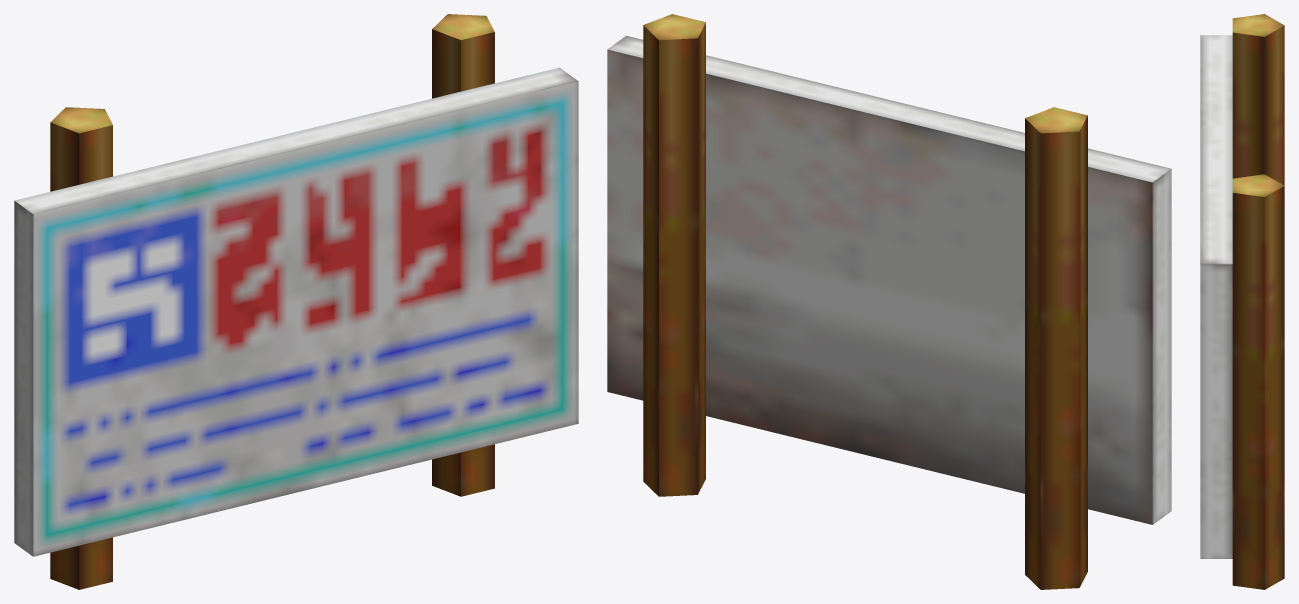
Rendered from Poly_SF_Outside_B_Signboard_01.obj.
3 renders of one model, left to right at view 1: azimuth 30°, elevation 25°; view 2: azimuth 150°, elevation 25°; view 3: azimuth 270°, elevation 25°, orthographic. The views are drawn at different scales.
Parts seen in each view (by area): view 1: Cube.001, Cube.004; view 2: Cube.001, Cube.004; view 3: Cube.004, Cube.001.
Boxes of the visible parts, bbox=[...] form: Cube.001: bbox=[14, 67, 578, 556]; Cube.004: bbox=[50, 14, 494, 589]; Cube.001: bbox=[607, 35, 1171, 524]; Cube.004: bbox=[643, 14, 1087, 589]; Cube.004: bbox=[1232, 14, 1284, 589]; Cube.001: bbox=[1200, 35, 1232, 558].
Bounding box in the file's own units: 1 × 0.8 × 0.156.
Materials: 1 (1 with a texture image).
